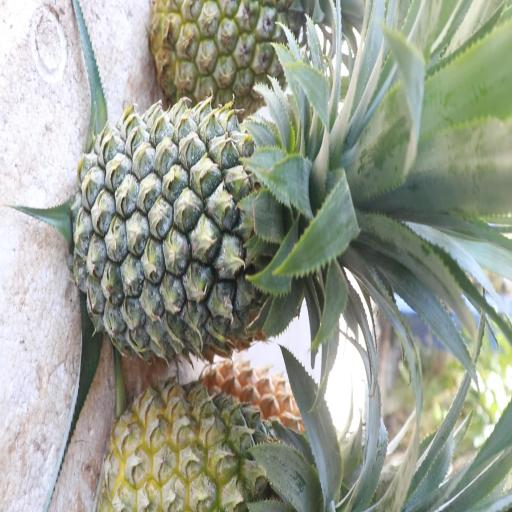------------------------------: (109, 365, 317, 512), (149, 0, 320, 105)
